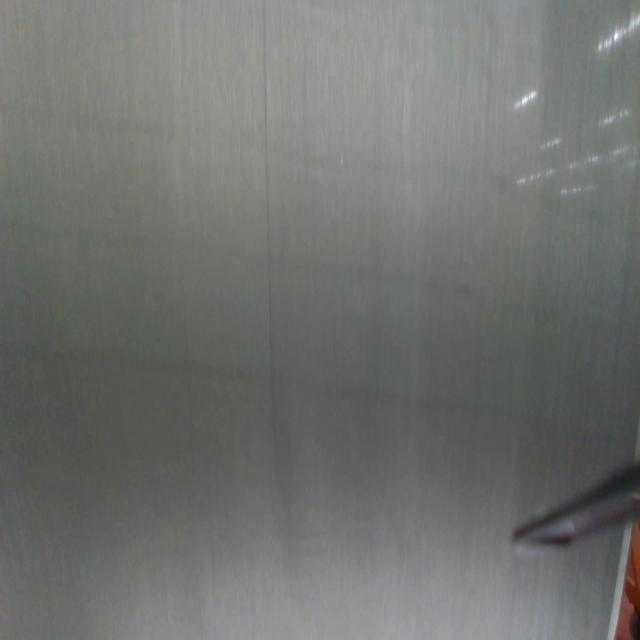crease: (261, 1, 275, 333)
